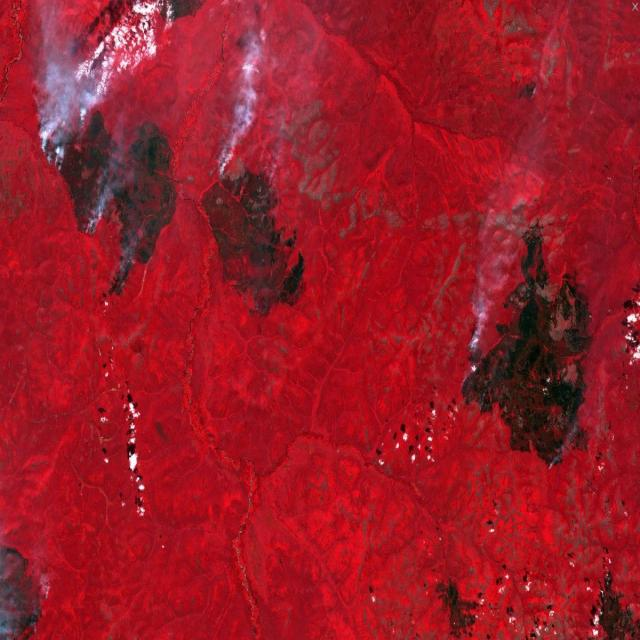fire: (36, 105, 90, 176), (466, 330, 502, 385), (210, 157, 231, 186), (85, 209, 101, 239)
